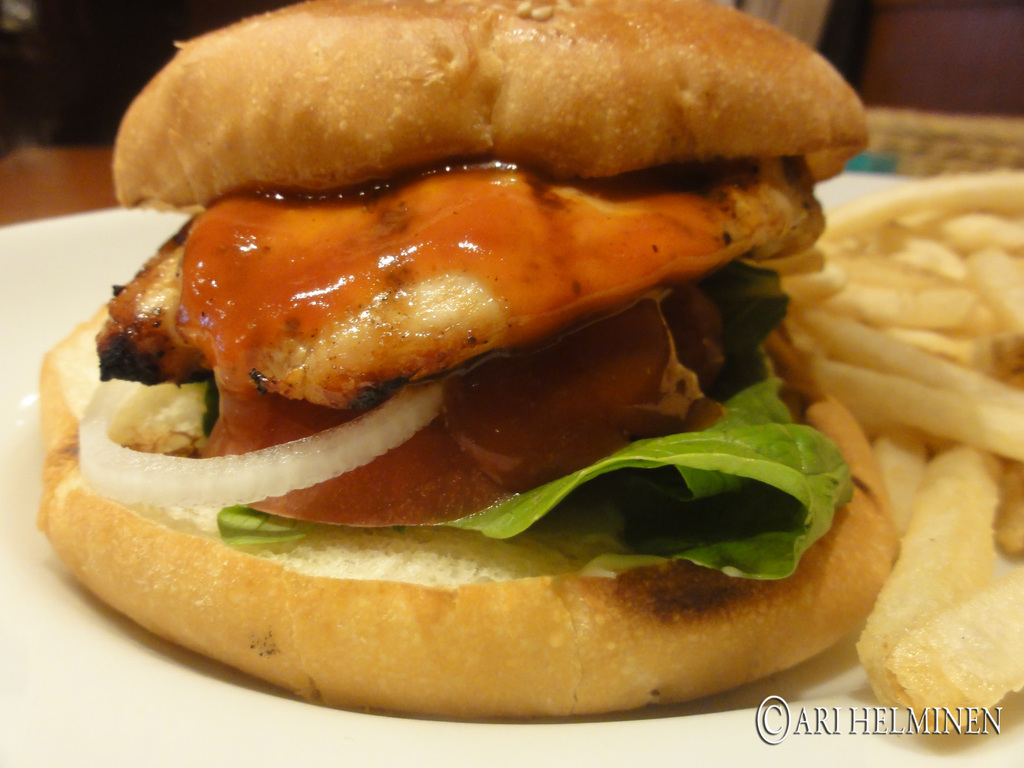French fries: (744, 137, 1024, 689)
